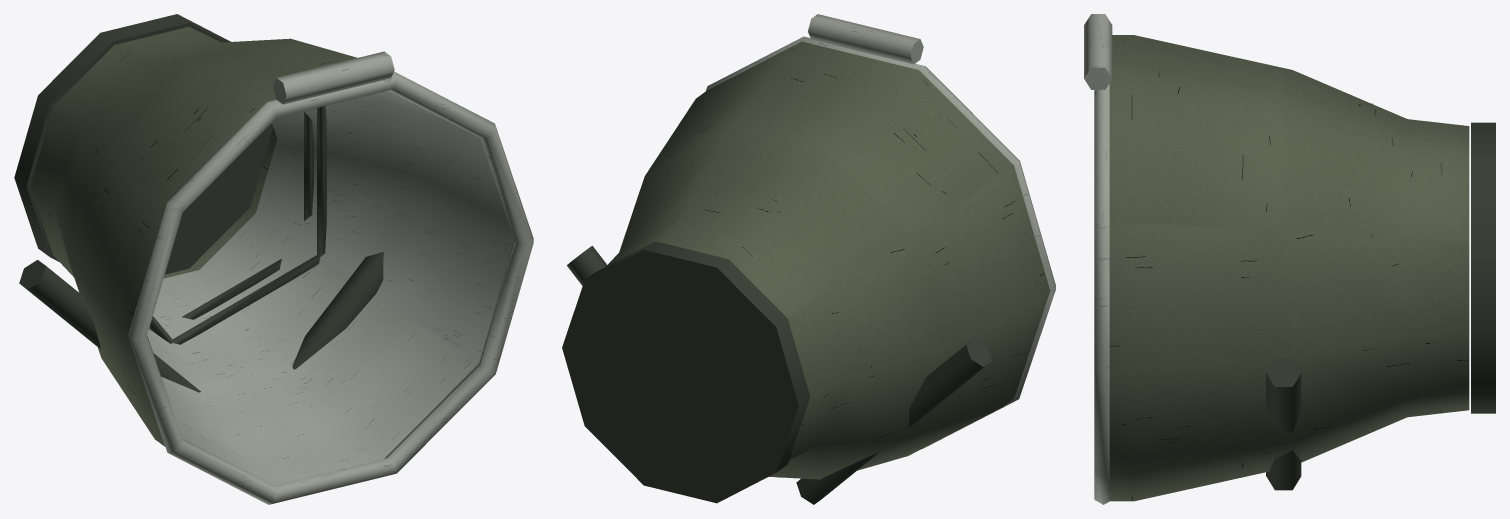
File: SM_FieldKit_LampHead_LOD2.fbx
3 views of the same model, side by side, from view 1: azimuth 30°, elevation 25°; view 2: azimuth 150°, elevation 25°; view 3: azimuth 270°, elevation 25° (orthographic). The views are drawn at different scales.
Visible parts, largest first — view 1: SM_FieldKit_LampHead_LOD2; view 2: SM_FieldKit_LampHead_LOD2; view 3: SM_FieldKit_LampHead_LOD2.
Part boxes in pixels (left/top/right/bottom): SM_FieldKit_LampHead_LOD2: left=14, top=14, right=533, bottom=504; SM_FieldKit_LampHead_LOD2: left=562, top=14, right=1055, bottom=504; SM_FieldKit_LampHead_LOD2: left=1084, top=14, right=1495, bottom=504.
Size of the model in its own units: 0.2923 by 0.233 by 0.2703.
